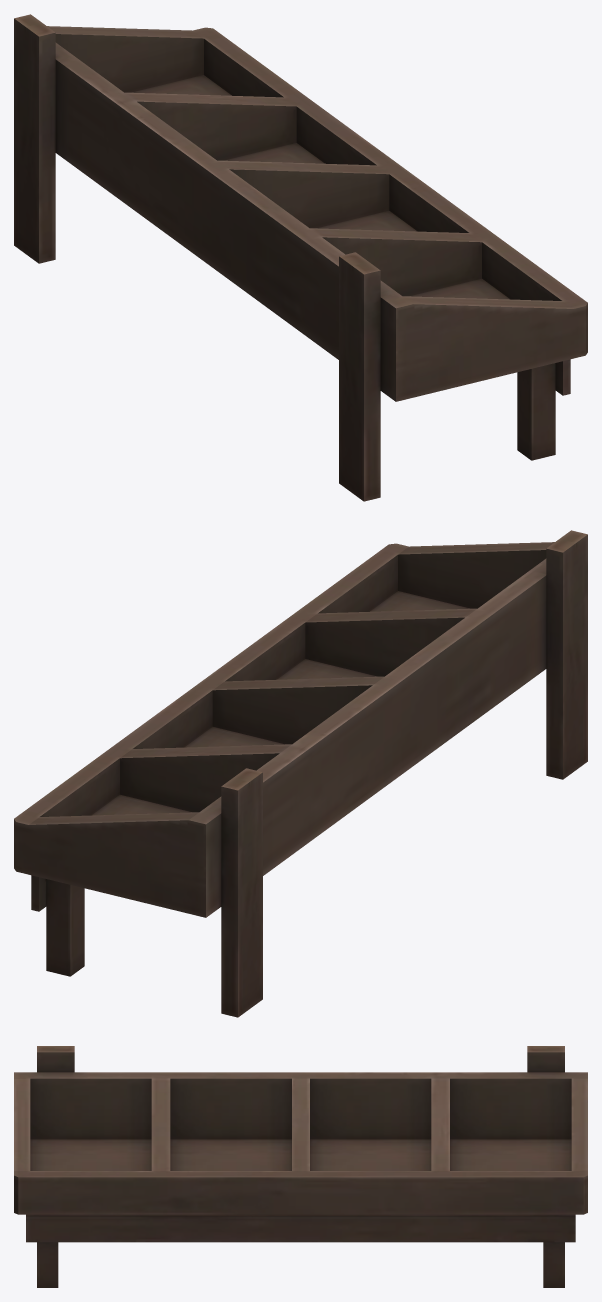
The picture shows the model from 3 angles, top to bottom: view 1: azimuth 30°, elevation 25°; view 2: azimuth 150°, elevation 25°; view 3: azimuth 270°, elevation 25°; orthographic projection. The views are drawn at different scales.
Visible parts, largest first — view 1: body0_model0_lod0_mesh0; view 2: body0_model0_lod0_mesh0; view 3: body0_model0_lod0_mesh0.
Part boxes in pixels (bbox=[...]): body0_model0_lod0_mesh0: bbox=[14, 14, 587, 501]; body0_model0_lod0_mesh0: bbox=[14, 530, 587, 1017]; body0_model0_lod0_mesh0: bbox=[14, 1046, 587, 1287].
Bounding box in the file's own units: 53.41 × 54.77 × 166.
Materials: 1 (1 with a texture image).
